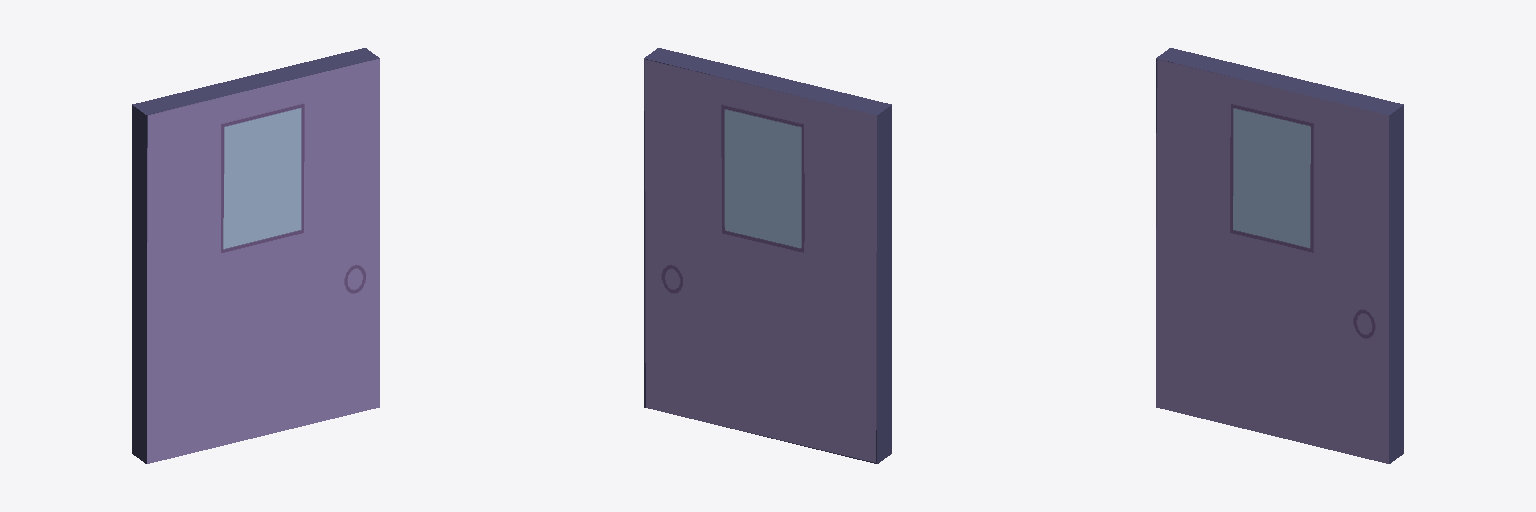
3 renders of one model, left to right at view 1: azimuth 30°, elevation 25°; view 2: azimuth 150°, elevation 25°; view 3: azimuth 330°, elevation 25°, orthographic.
Visible parts, largest first — view 1: puerta_Cubo.005; view 2: puerta_Cubo.005; view 3: puerta_Cubo.005.
Part boxes in pixels (bbox=[...]): puerta_Cubo.005: bbox=[132, 48, 379, 463]; puerta_Cubo.005: bbox=[644, 48, 891, 463]; puerta_Cubo.005: bbox=[1156, 48, 1403, 463].
Bounding box in the file's own units: 2.3 × 3.29 × 0.2509.
Materials: 1 (1 with a texture image).